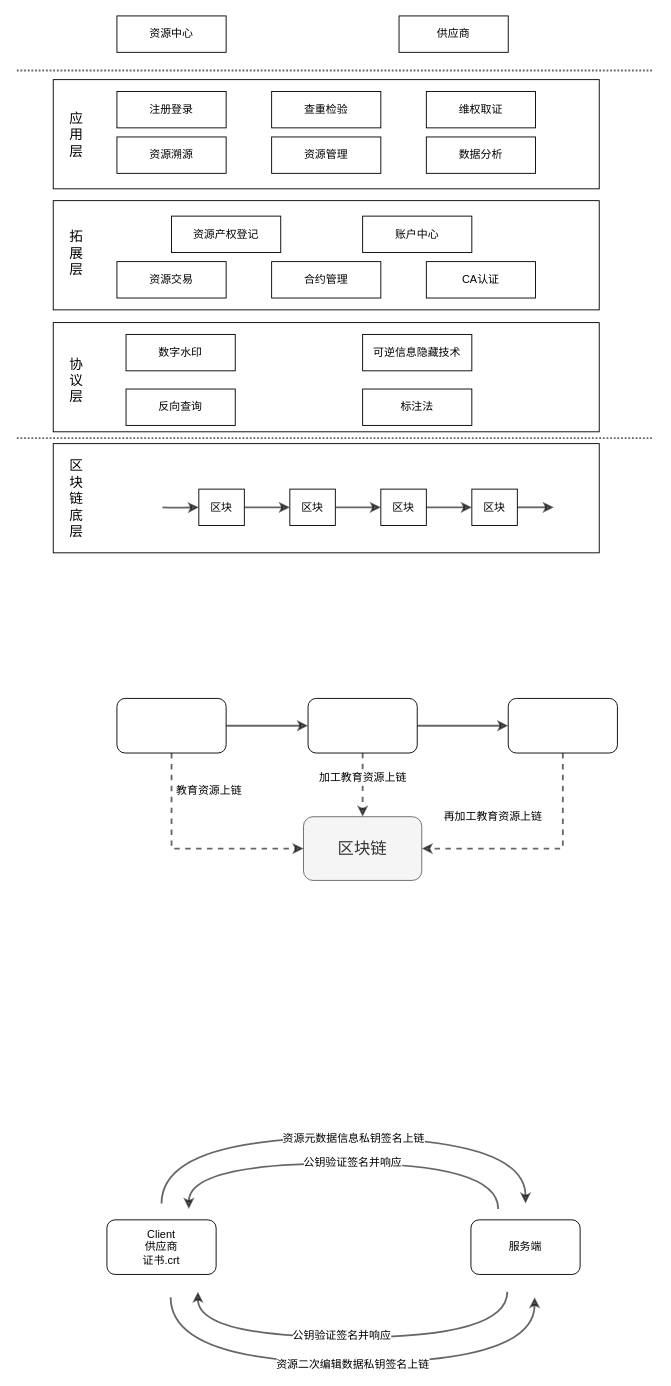
Some shapes in this 671 by 1386 pixel diagram are drawn without their labels. Here are the shapes that lost their labels. From the top down, the centre of each, then its label:
pixel 171 725: 教学资源库
pixel 362 725: 加工教学资源
pixel 562 725: 再加工教学资源
